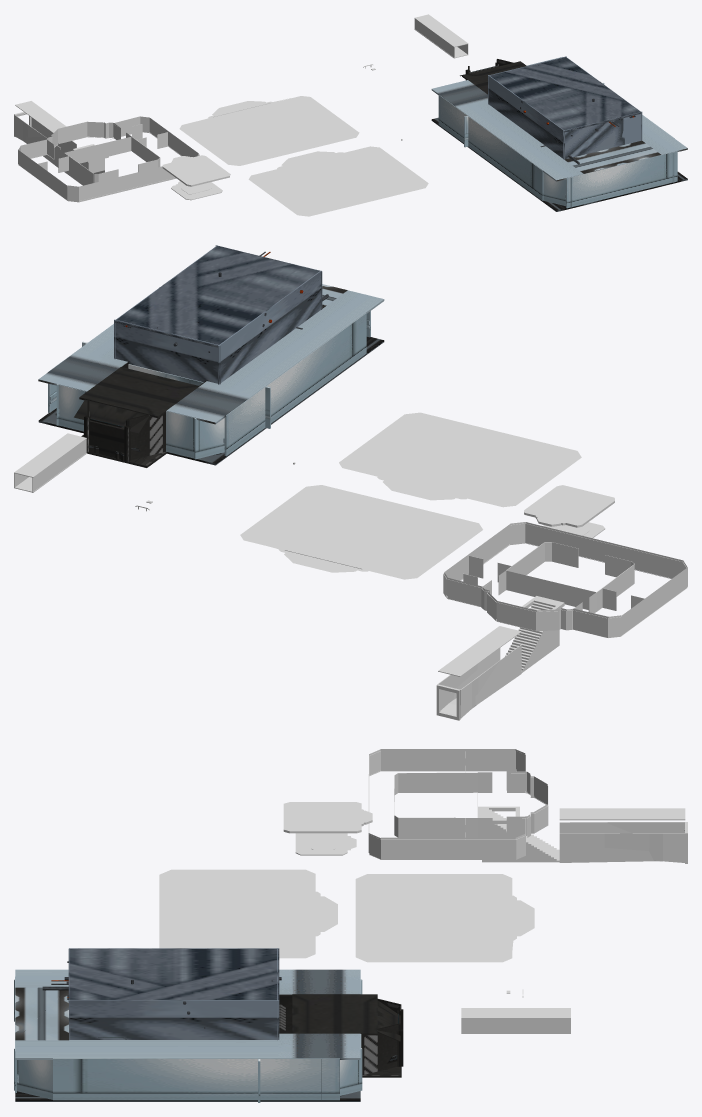
File: Tutorial.fbx
3 renders of one model, top to bottom at view 1: azimuth 30°, elevation 25°; view 2: azimuth 150°, elevation 25°; view 3: azimuth 270°, elevation 25°, orthographic. The views are drawn at different scales.
Parts seen in each view (by area): view 1: Floor.003, Ceiling, Cube.027, Cube.024, Plane, Cube.023, Cube.013, Walls_inside, Cube.020, Cube.017, Cube.026, Plane.003 (+11 smaller); view 2: Floor.003, Ceiling, Cube.027, Plane, Cube.024, Cube.013, Walls_inside, Cube.018, Cube.020, Cube.007, Floor_basement_hallway, Cube.030 (+12 smaller); view 3: Floor.003, Ceiling, Cube.015, Cube.027, Plane, Cube.019, Cube.030, Floor_basement_hallway, Cube.007, Cube.024, Cube.075, Cube.026 (+12 smaller).
Part boxes in pixels (x1,y1,x2,y2): Floor.003: (179, 96, 359, 165); Ceiling: (248, 146, 428, 216); Cube.027: (489, 57, 641, 132); Cube.024: (431, 80, 583, 181); Plane: (18, 123, 199, 202); Cube.023: (565, 151, 677, 208); Cube.013: (438, 95, 543, 200); Walls_inside: (18, 116, 198, 200); Cube.020: (488, 75, 564, 159); Cube.017: (563, 111, 642, 159); Cube.026: (564, 140, 661, 173); Plane.003: (162, 155, 230, 186); Floor.003: (240, 485, 482, 579); Ceiling: (339, 412, 581, 507); Cube.027: (115, 246, 319, 347); Plane: (443, 523, 687, 637); Cube.024: (166, 290, 384, 424); Cube.013: (223, 313, 366, 456); Walls_inside: (444, 522, 687, 634); Cube.018: (114, 319, 220, 384); Cube.020: (218, 270, 321, 384); Cube.007: (79, 367, 199, 418); Floor_basement_hallway: (437, 644, 521, 718); Cube.030: (38, 324, 127, 391); Floor.003: (355, 874, 534, 962); Ceiling: (159, 869, 337, 958); Cube.015: (53, 1058, 339, 1100); Cube.027: (68, 949, 279, 1002); Plane: (369, 751, 548, 859); Cube.019: (69, 1000, 279, 1039); Cube.030: (15, 1033, 360, 1059); Floor_basement_hallway: (559, 822, 685, 862); Cube.007: (292, 994, 377, 1035); Cube.024: (15, 969, 360, 994); Cube.075: (461, 1008, 570, 1033); Cube.026: (15, 987, 68, 1040).
Bounding box in the file's own units: 89974 × 16122 × 77163.
